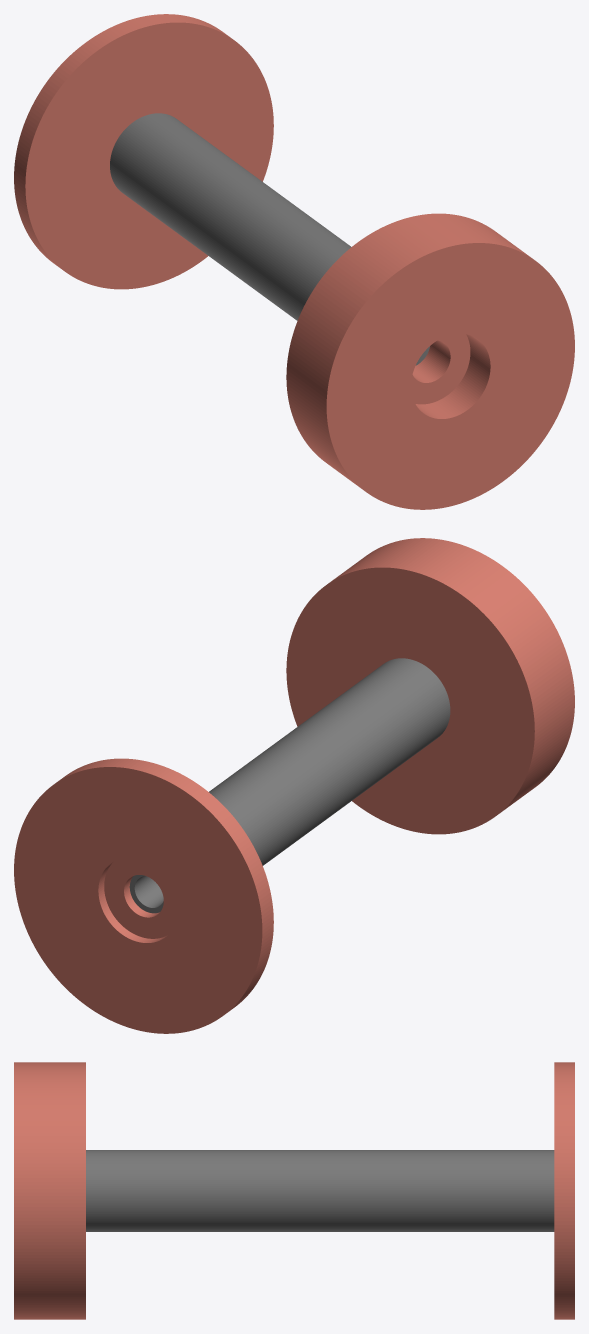
Rendered from wheel-assembly.gltf.
3 renders of one model, top to bottom at view 1: azimuth 30°, elevation 25°; view 2: azimuth 150°, elevation 25°; view 3: azimuth 270°, elevation 25°, orthographic. The views are drawn at different scales.
Parts seen in each view (by area): view 1: wheel-assembly.left_wheel, wheel-assembly.right_wheel, wheel-assembly.axle; view 2: wheel-assembly.right_wheel, wheel-assembly.left_wheel, wheel-assembly.axle; view 3: wheel-assembly.axle, wheel-assembly.left_wheel, wheel-assembly.right_wheel.
Part boxes in pixels (left/top/right/bottom): wheel-assembly.left_wheel: left=286, top=213, right=574, bottom=509; wheel-assembly.right_wheel: left=14, top=14, right=273, bottom=289; wheel-assembly.axle: left=110, top=113, right=429, bottom=365; wheel-assembly.right_wheel: left=14, top=758, right=273, bottom=1033; wheel-assembly.left_wheel: left=286, top=538, right=574, bottom=834; wheel-assembly.axle: left=129, top=658, right=450, bottom=913; wheel-assembly.axle: left=86, top=1150, right=554, bottom=1231; wheel-assembly.left_wheel: left=14, top=1062, right=85, bottom=1319; wheel-assembly.right_wheel: left=554, top=1062, right=574, bottom=1319.
Bounding box in the file's own units: 0.025 × 0.025 × 0.0545.
